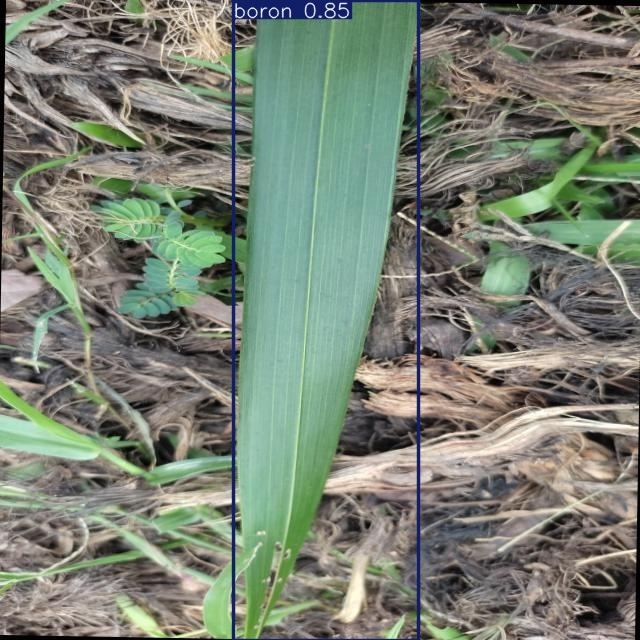nitrogen: (234, 1, 418, 640)
